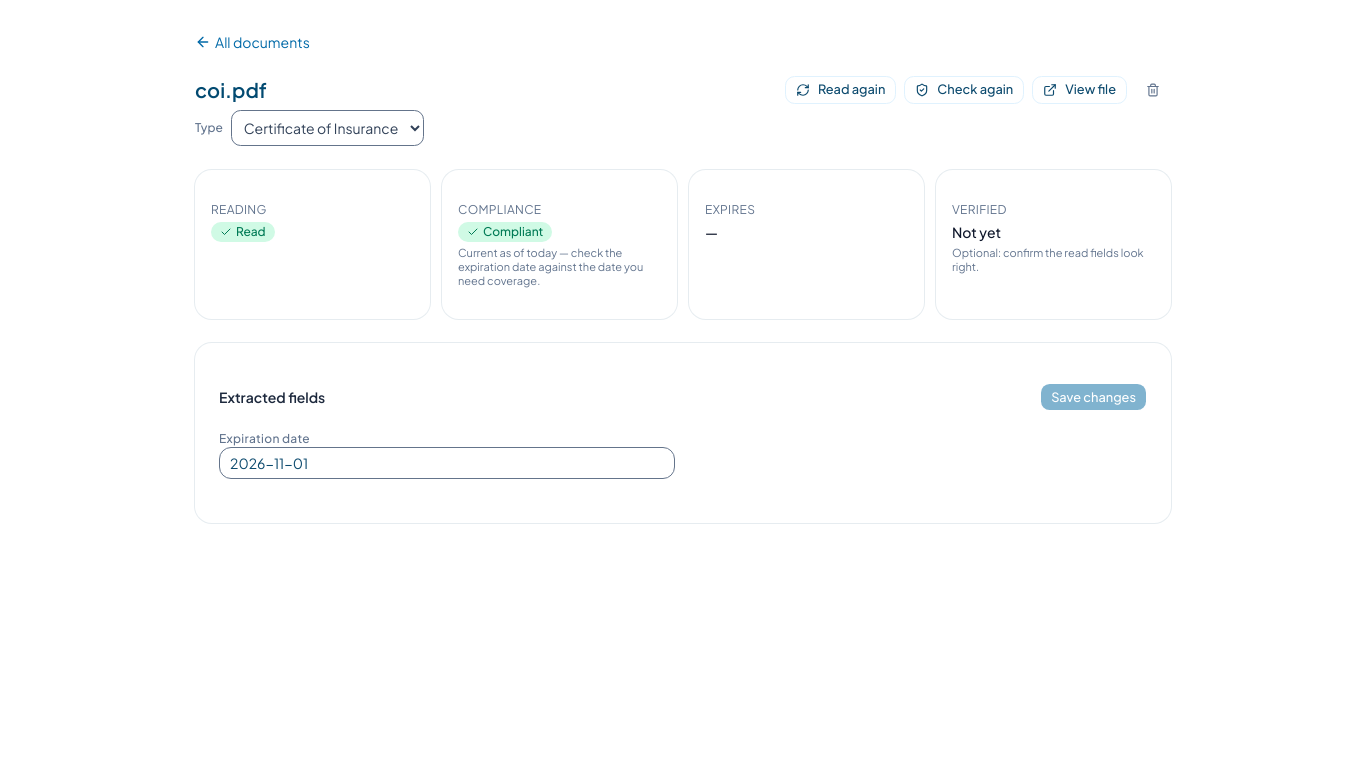
Test: DocumentDetailPage — pending edits vs. 'Read again' (#363) › shows the FRESH re-read value, not the stale typed one, and leaves nothing pending to save
The width and height of the screenshot is (1366, 768).
Replace the text in the field showing "2026-11-01" with "2025-01-01" at [447, 463], box [219, 447, 675, 479]
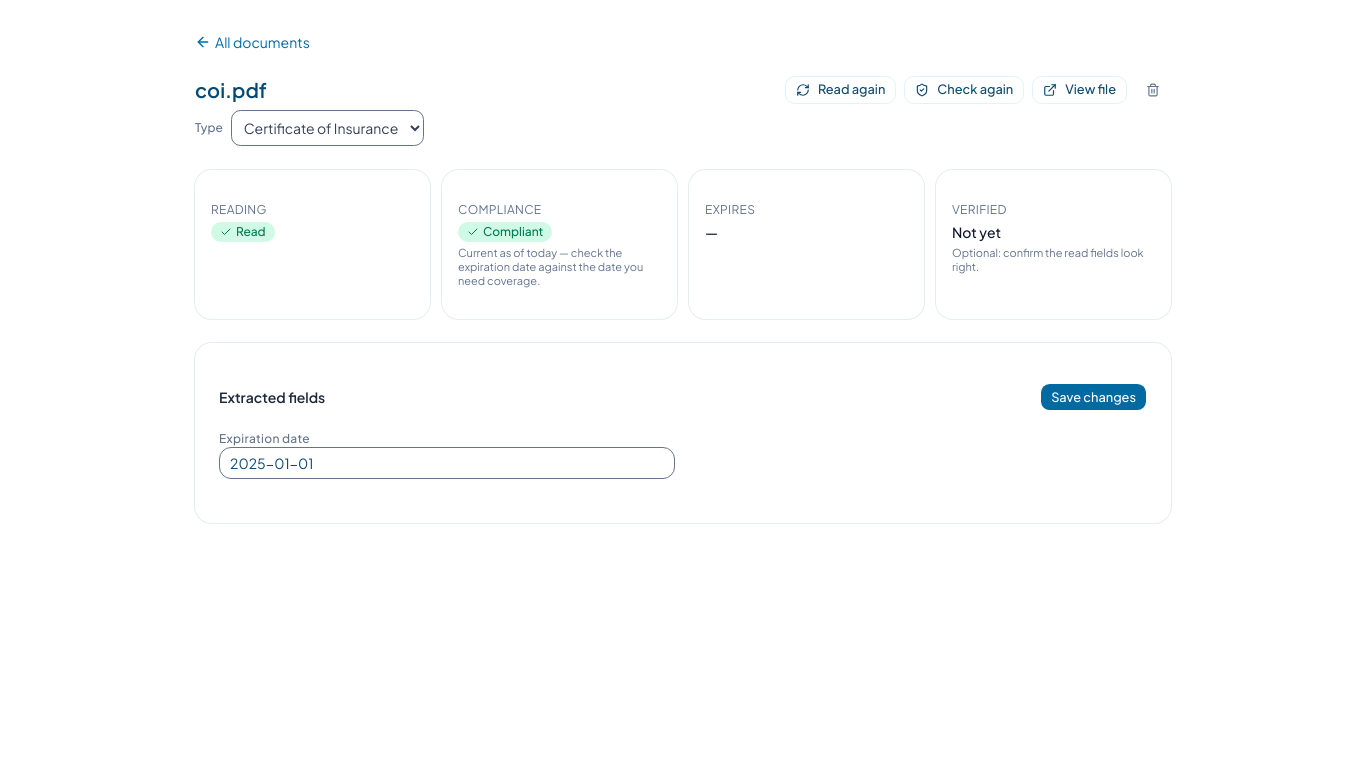
Check: the button "Save changes" is enabled, box [1040, 383, 1147, 411]
Click the button "Read again" at [841, 90], box [785, 76, 896, 104]
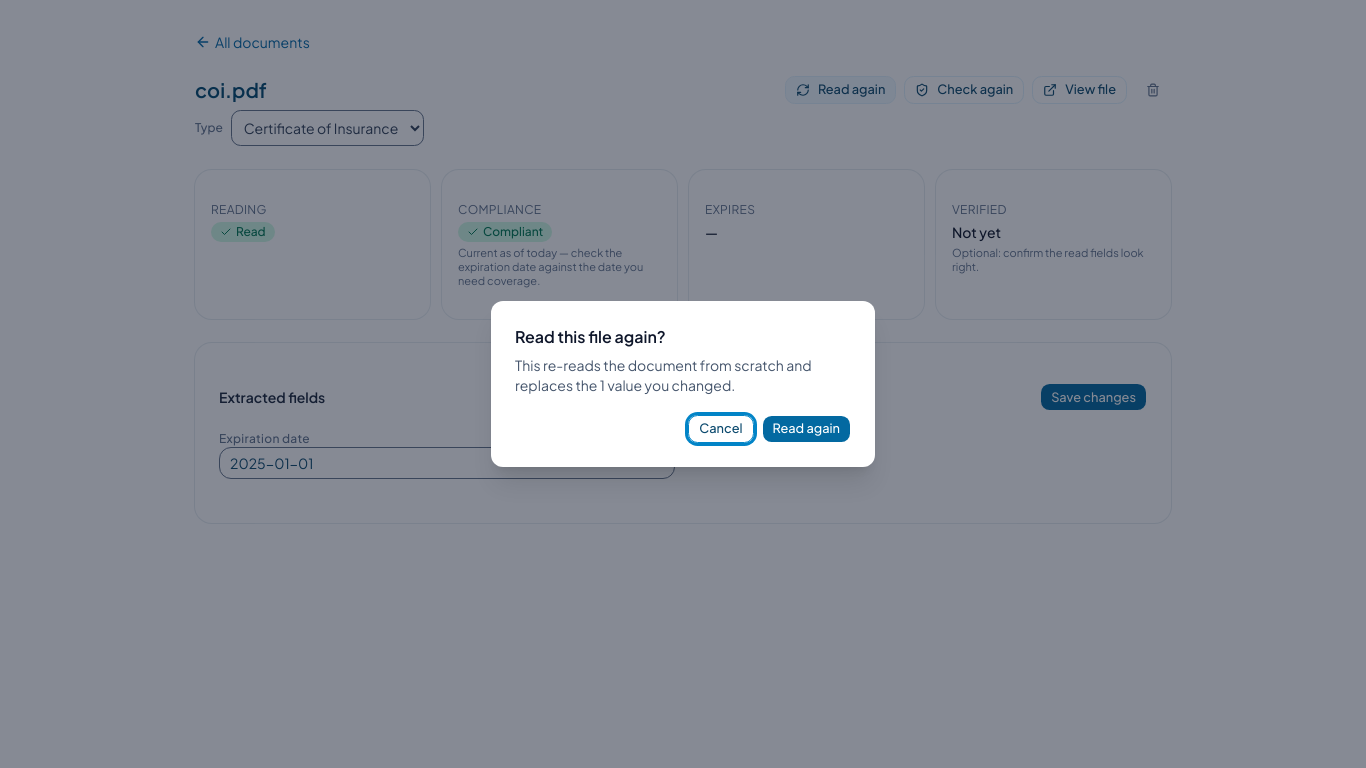
Click the button "Read again" at [806, 429], box [762, 415, 851, 443]
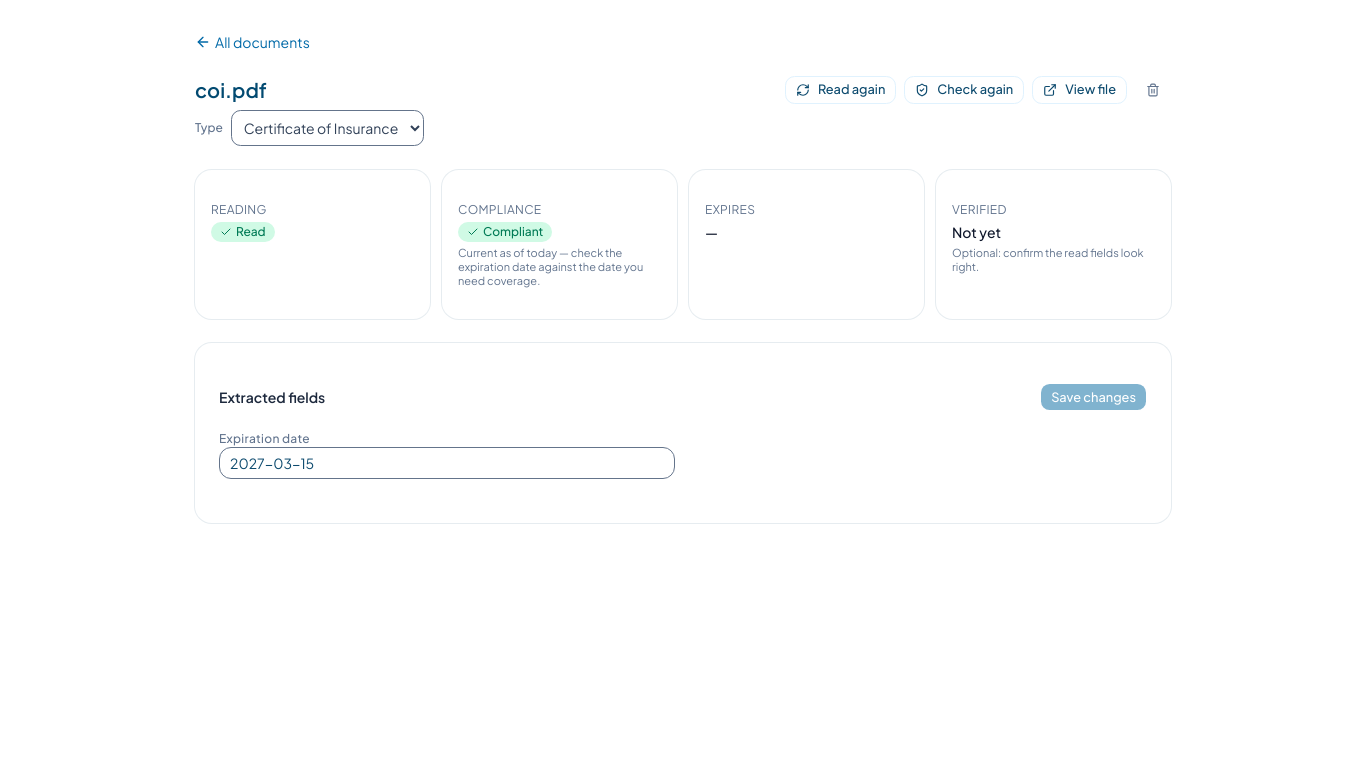
Check: the field showing "2025-01-01" is not shown
Check: the field labelled "Expiration date" holds "2027-03-15", box [219, 447, 675, 479]
Check: the button "Save changes" is disabled, box [1040, 383, 1147, 411]
